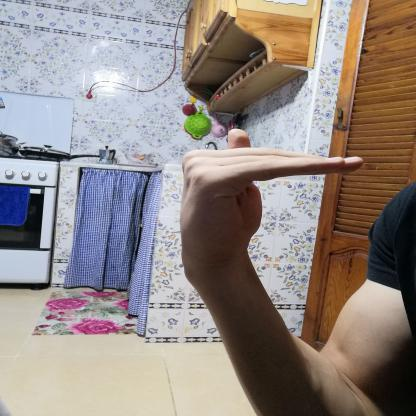KHAA: (163, 122, 375, 286)
